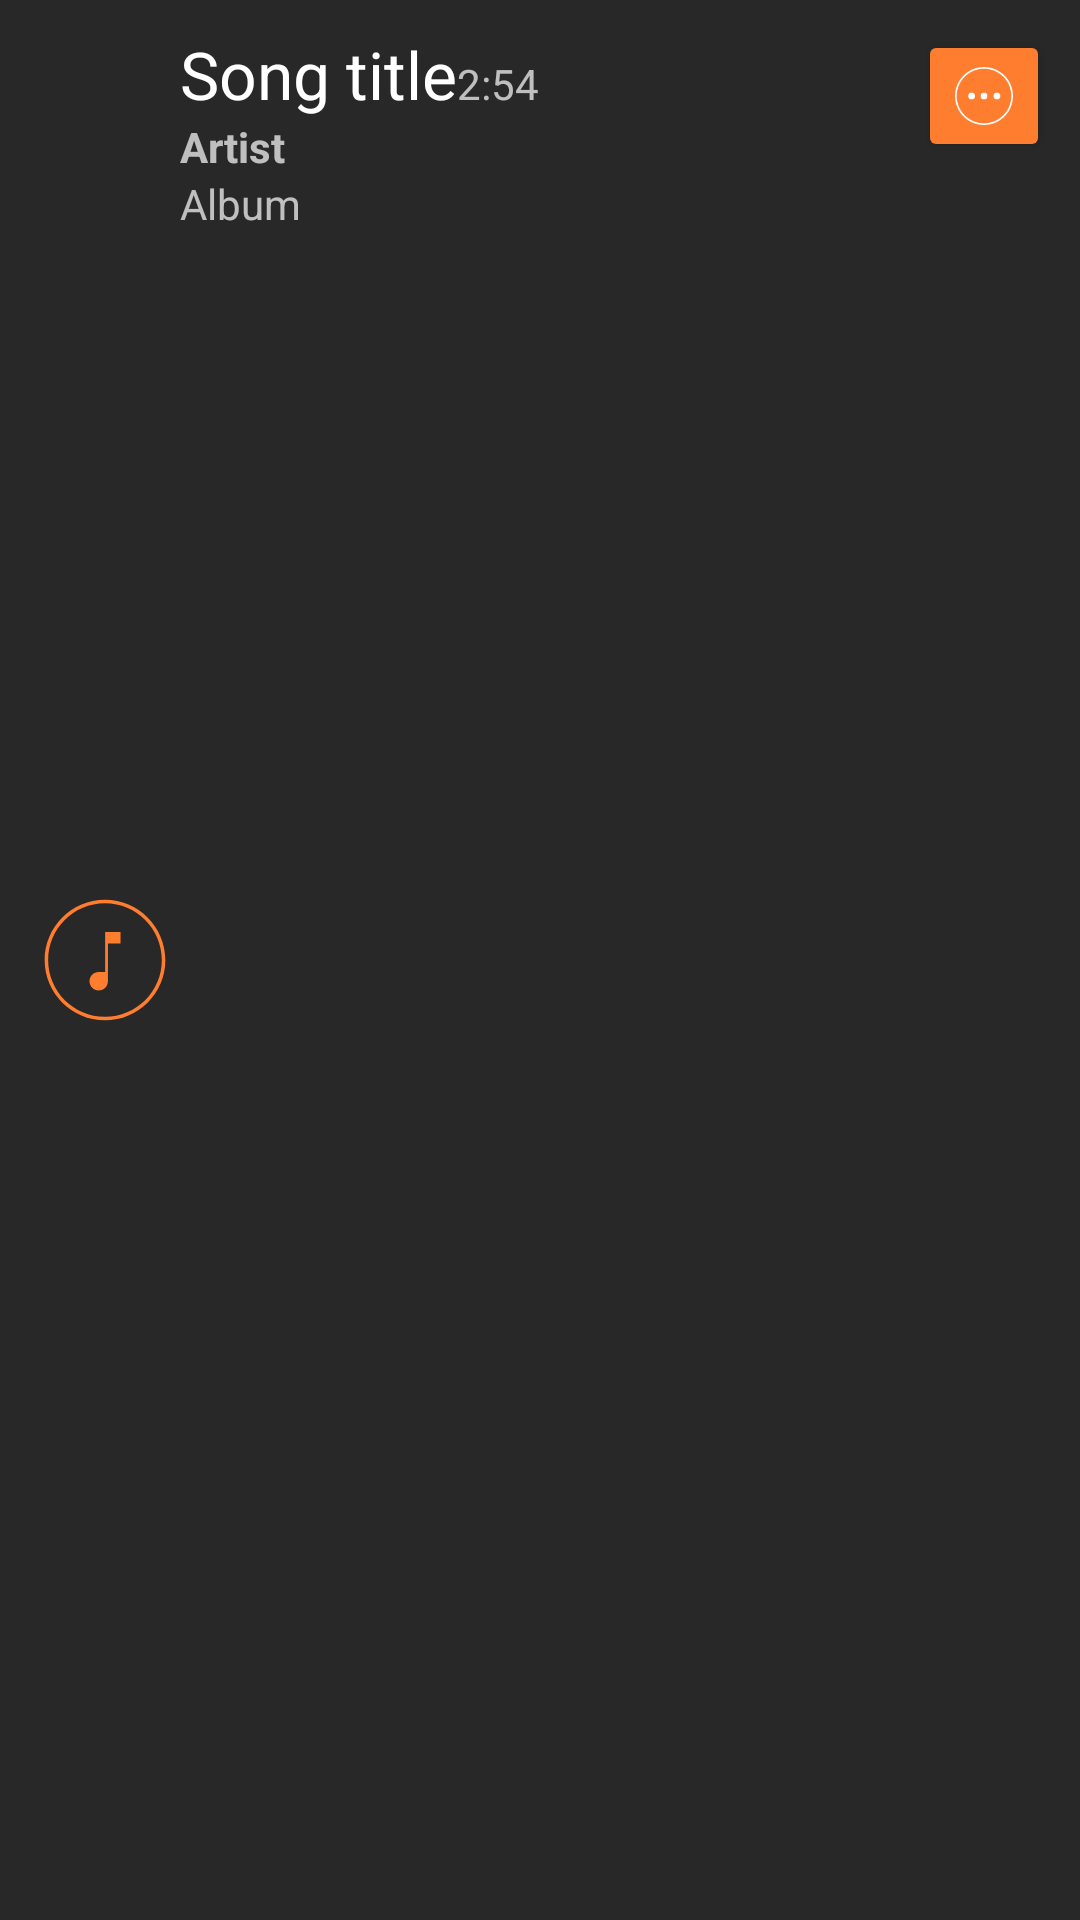

Named icons in this screenshot (1080 × 1920) and their centers, point (x, y):
song: point (105, 960)
